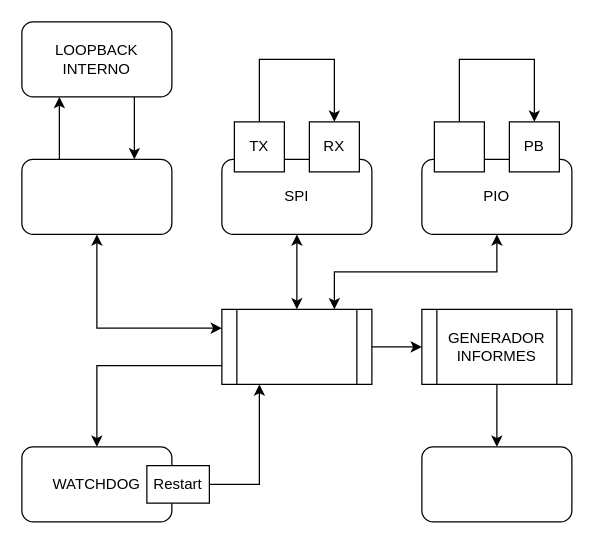
Image size: 594x544. Some labels were removed from this diagram. Here are the shapes that lost their labels. From the top down, the box of each, then its label:
(433, 121, 484, 172): PA
(21, 158, 172, 234): CAN
(221, 308, 372, 384): VALIDADOR
(421, 446, 572, 522): UART
